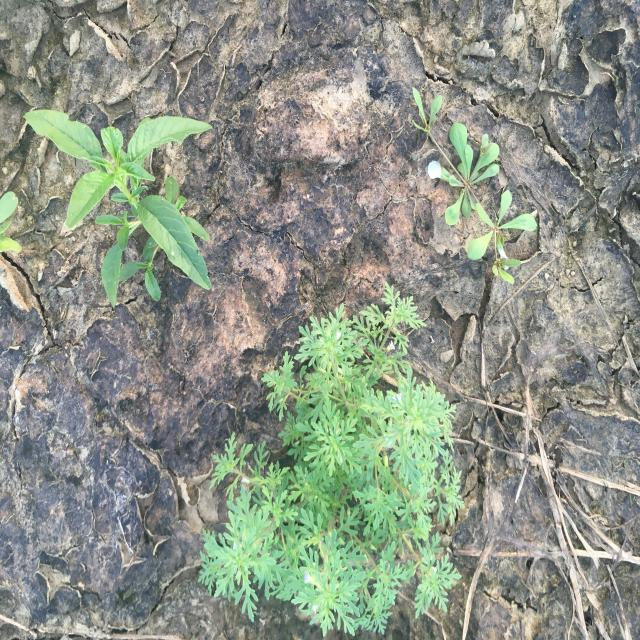Carpetweed: (411, 86, 538, 285)
Ragweed: (196, 280, 466, 638)
Waterhemp: (22, 108, 215, 310)
